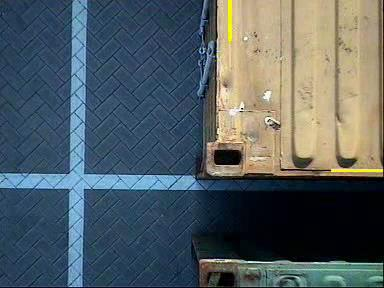groundmarker_2: (111, 87, 162, 126)
